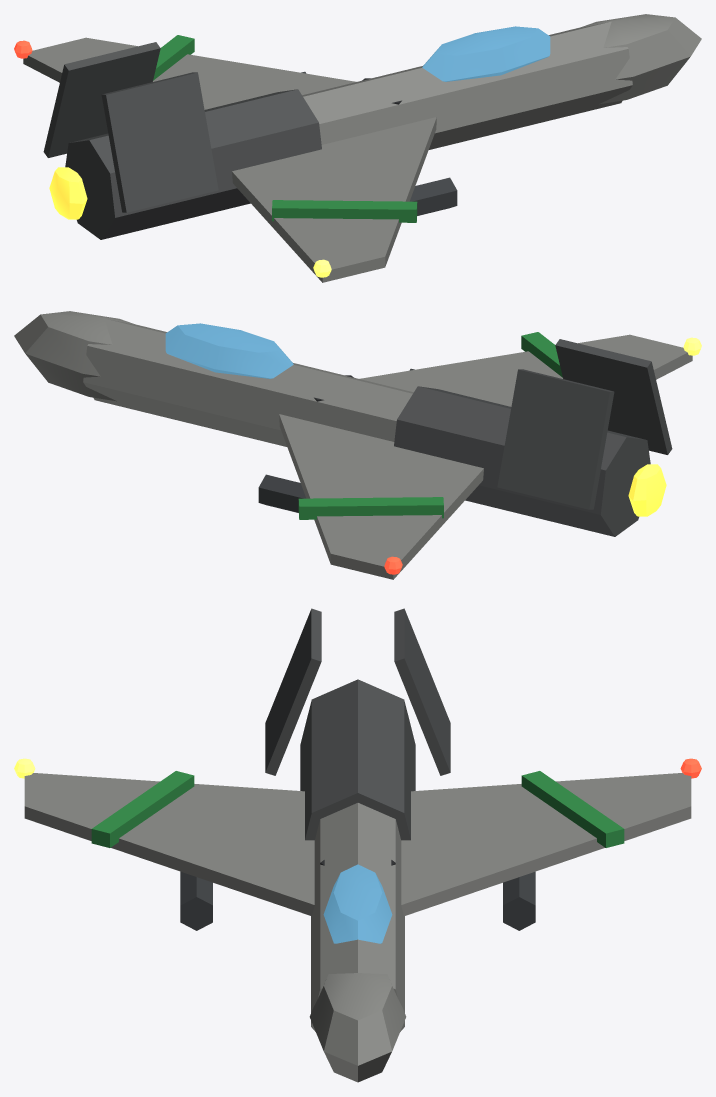
File: u_jet_lod1.glb
3 views of the same model, one above another, from view 1: azimuth 30°, elevation 25°; view 2: azimuth 150°, elevation 25°; view 3: azimuth 270°, elevation 25° (orthographic). The views are drawn at different scales.
Parts seen in each view (by area): view 1: Jet_LOD1_Walls, Jet_LOD1_Details; view 2: Jet_LOD1_Walls, Jet_LOD1_Details; view 3: Jet_LOD1_Walls, Jet_LOD1_Details.
Boxes of the visible parts, <box> form: Jet_LOD1_Walls: <box>23,14,701,282</box>; Jet_LOD1_Details: <box>14,26,550,277</box>; Jet_LOD1_Walls: <box>14,311,692,579</box>; Jet_LOD1_Details: <box>165,323,701,574</box>; Jet_LOD1_Walls: <box>24,608,691,1082</box>; Jet_LOD1_Details: <box>14,758,701,943</box>.
Bounding box in the file's own units: 1.55 × 0.35 × 1.28.
